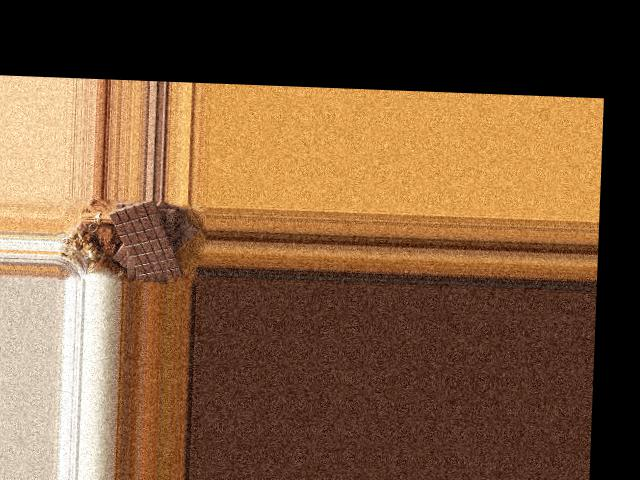chocolate: (102, 198, 186, 281)
